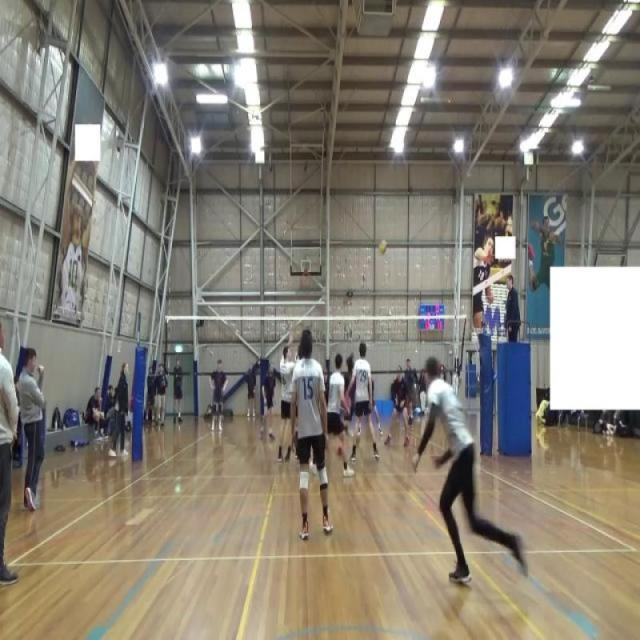volleyball: (378, 236, 388, 258)
